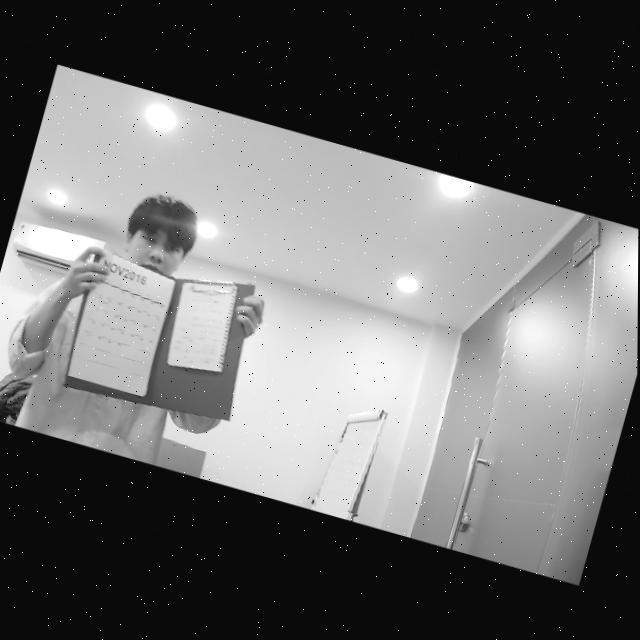document: (67, 249, 176, 398), (165, 282, 237, 371)
face: (121, 217, 187, 278)
